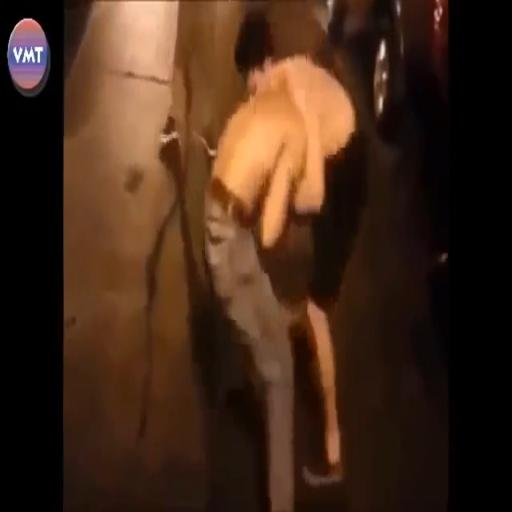violencia: (191, 5, 373, 512)
